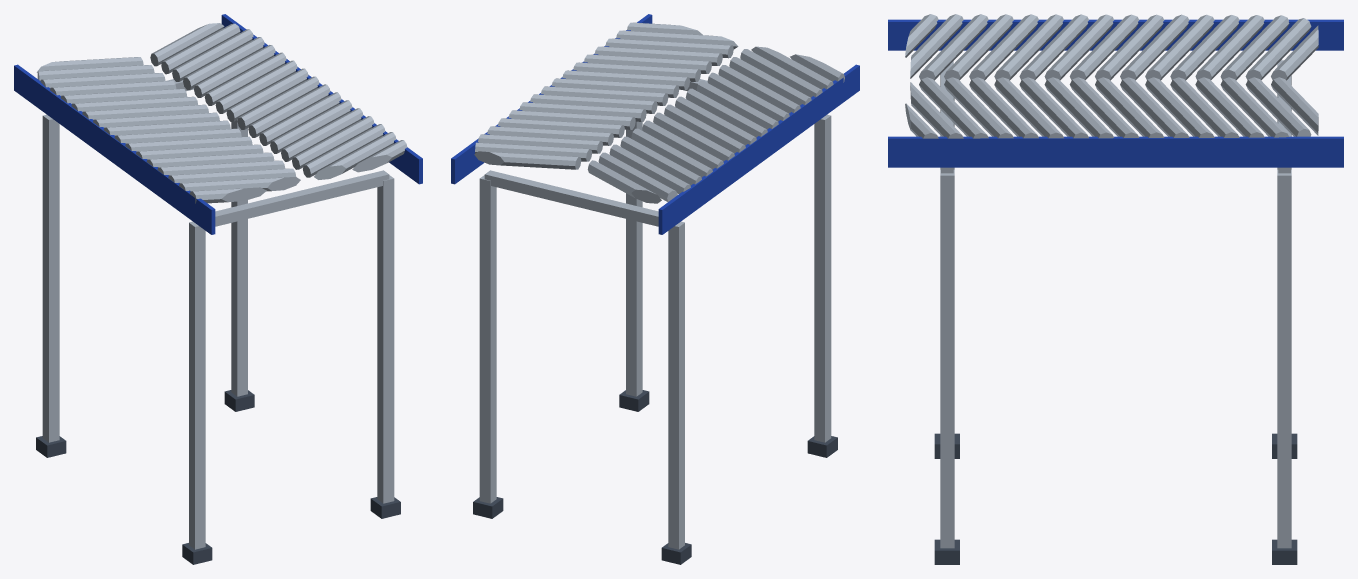
Rendered from SM_MPR_CADFeedChevron_2CC6A3.fbx.
The picture shows the model from 3 angles, left to right: view 1: azimuth 30°, elevation 25°; view 2: azimuth 150°, elevation 25°; view 3: azimuth 270°, elevation 25°; orthographic projection. The views are drawn at different scales.
Parts seen in each view (by area): view 1: SM_MPR_CADFeedChevron_2CC6A3; view 2: SM_MPR_CADFeedChevron_2CC6A3; view 3: SM_MPR_CADFeedChevron_2CC6A3.
Part boxes in pixels (bbox=[...]): SM_MPR_CADFeedChevron_2CC6A3: bbox=[14, 14, 422, 564]; SM_MPR_CADFeedChevron_2CC6A3: bbox=[451, 14, 859, 564]; SM_MPR_CADFeedChevron_2CC6A3: bbox=[888, 14, 1343, 564].
Size of the model in its own units: 88.46 by 143 by 150.
